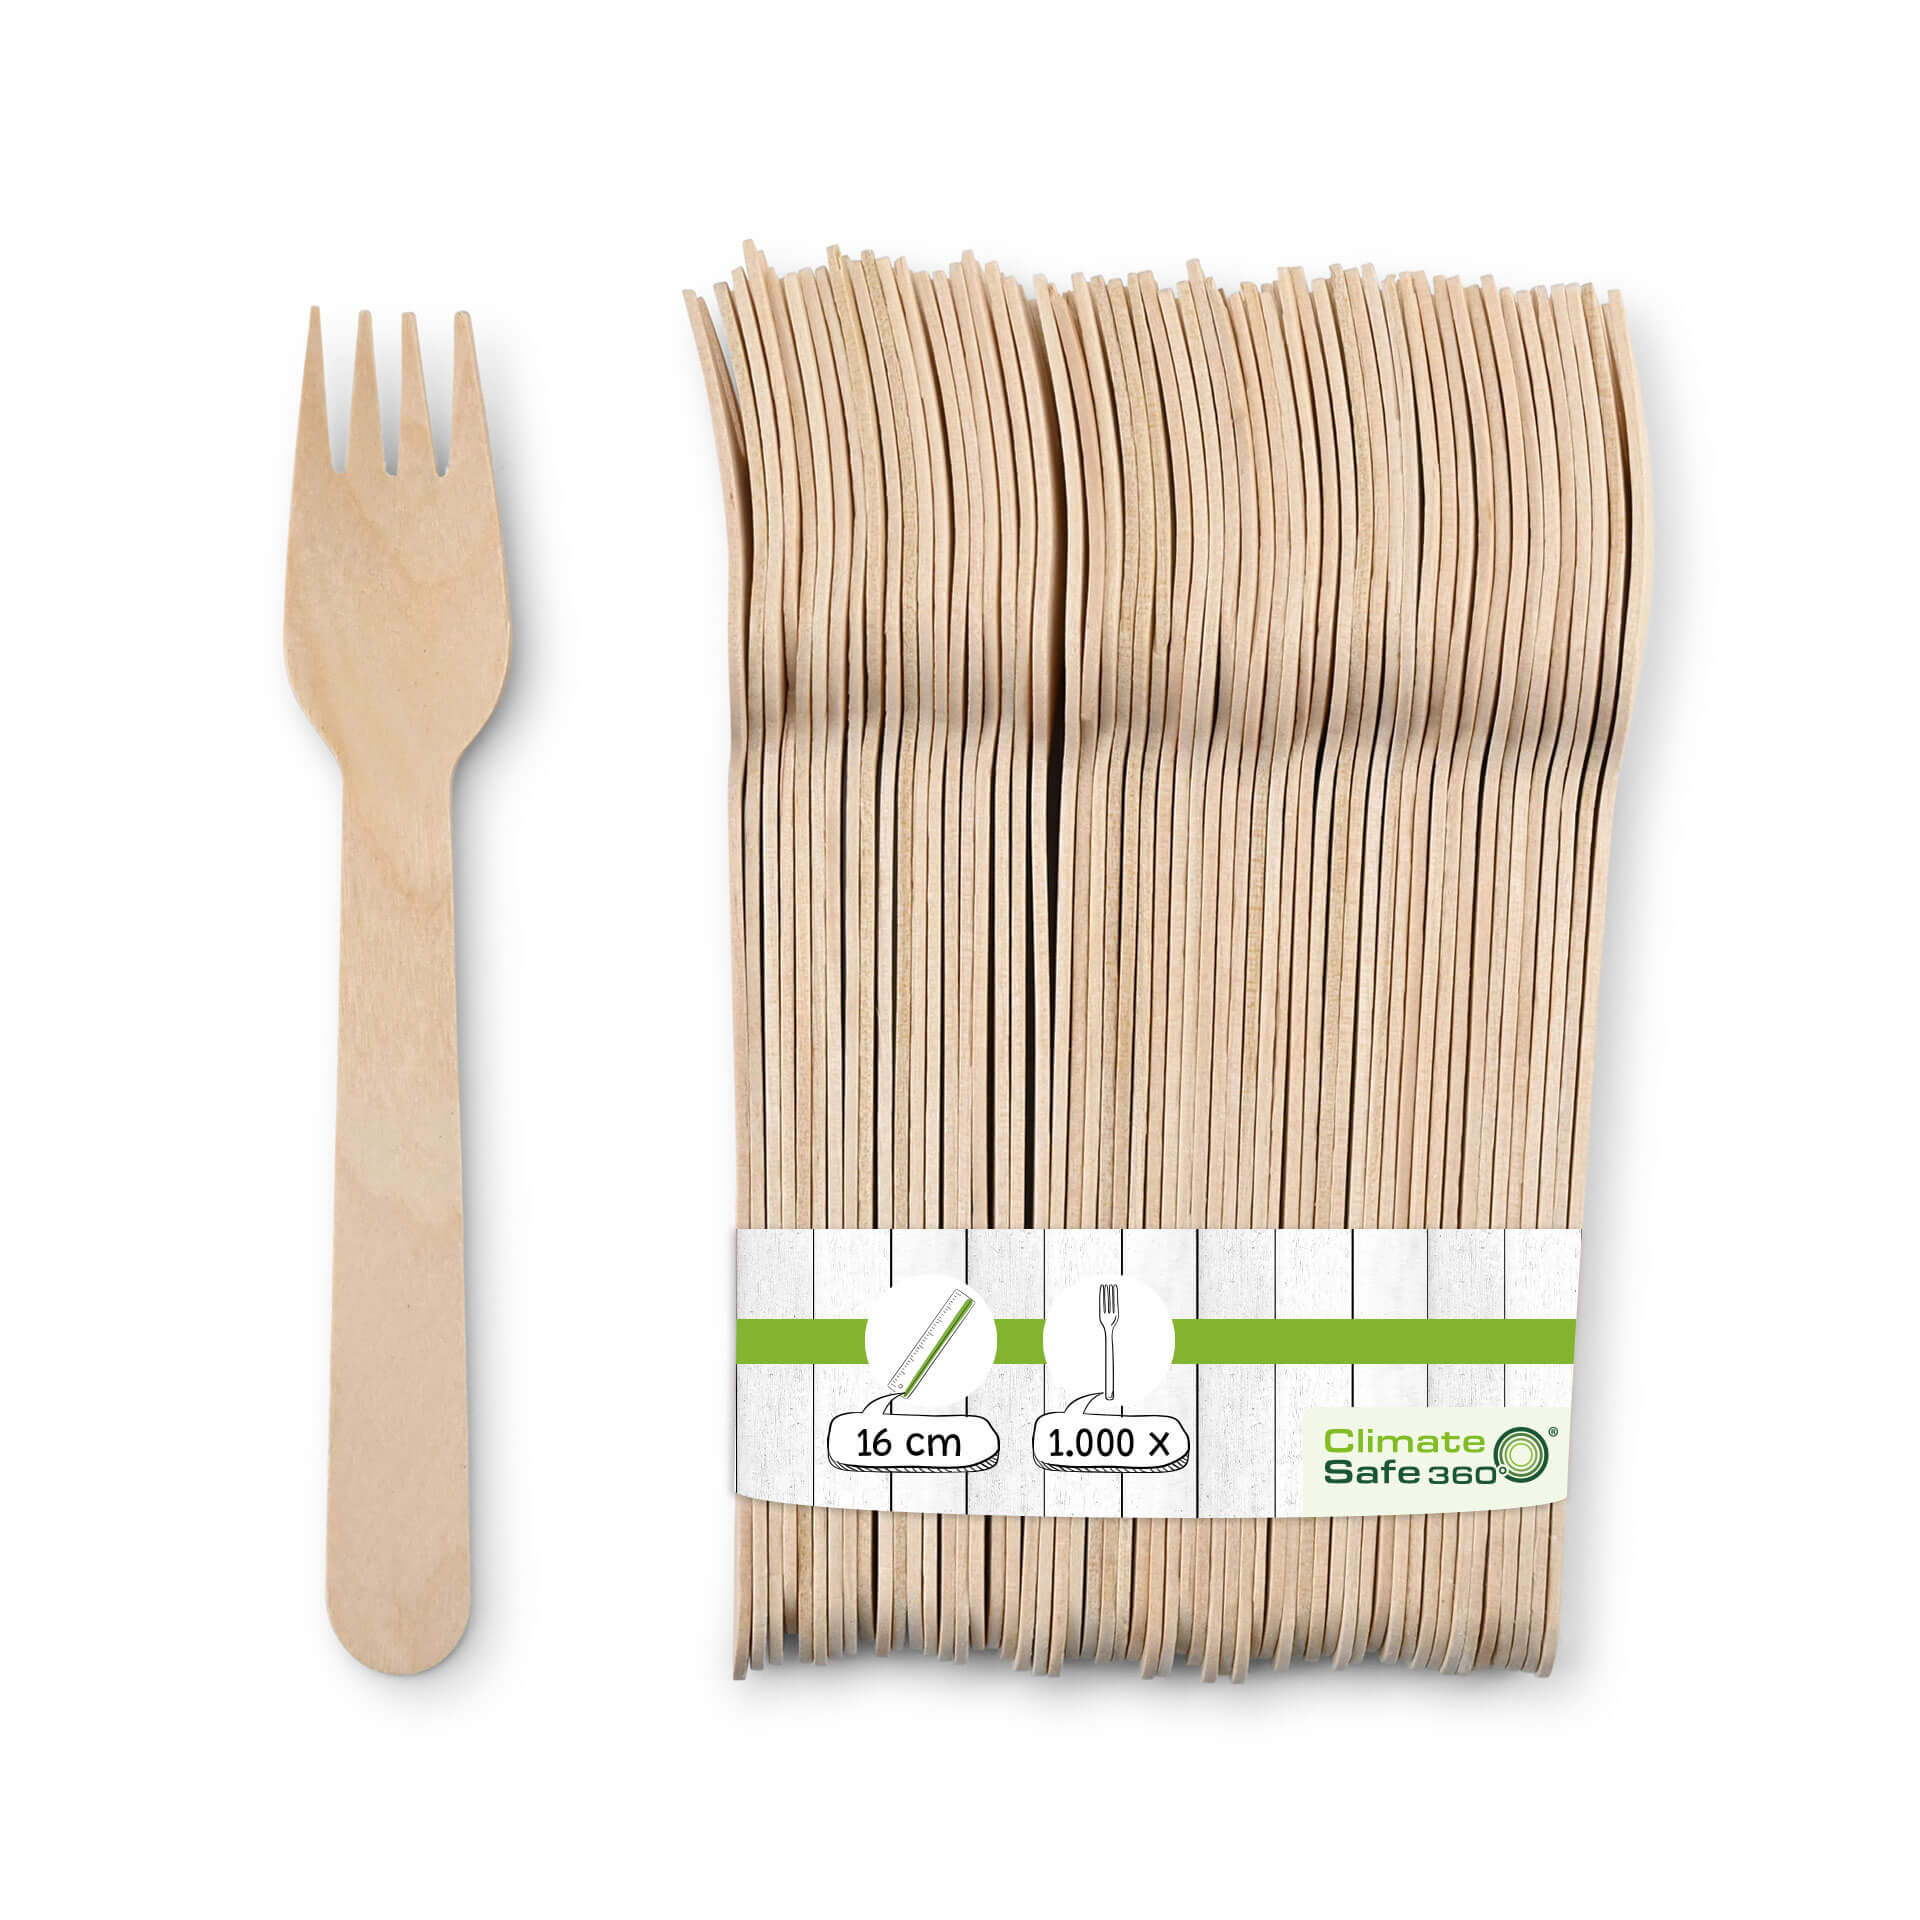Wooden Utensils: (705, 223, 1679, 1727), (149, 273, 631, 1737)
